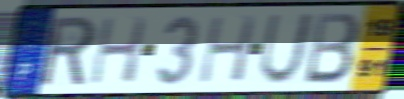3: (154, 12, 200, 88)
B: (302, 11, 362, 86)
H: (196, 14, 259, 85), (87, 15, 150, 86)
R: (39, 14, 98, 89)
U: (256, 11, 316, 86)
